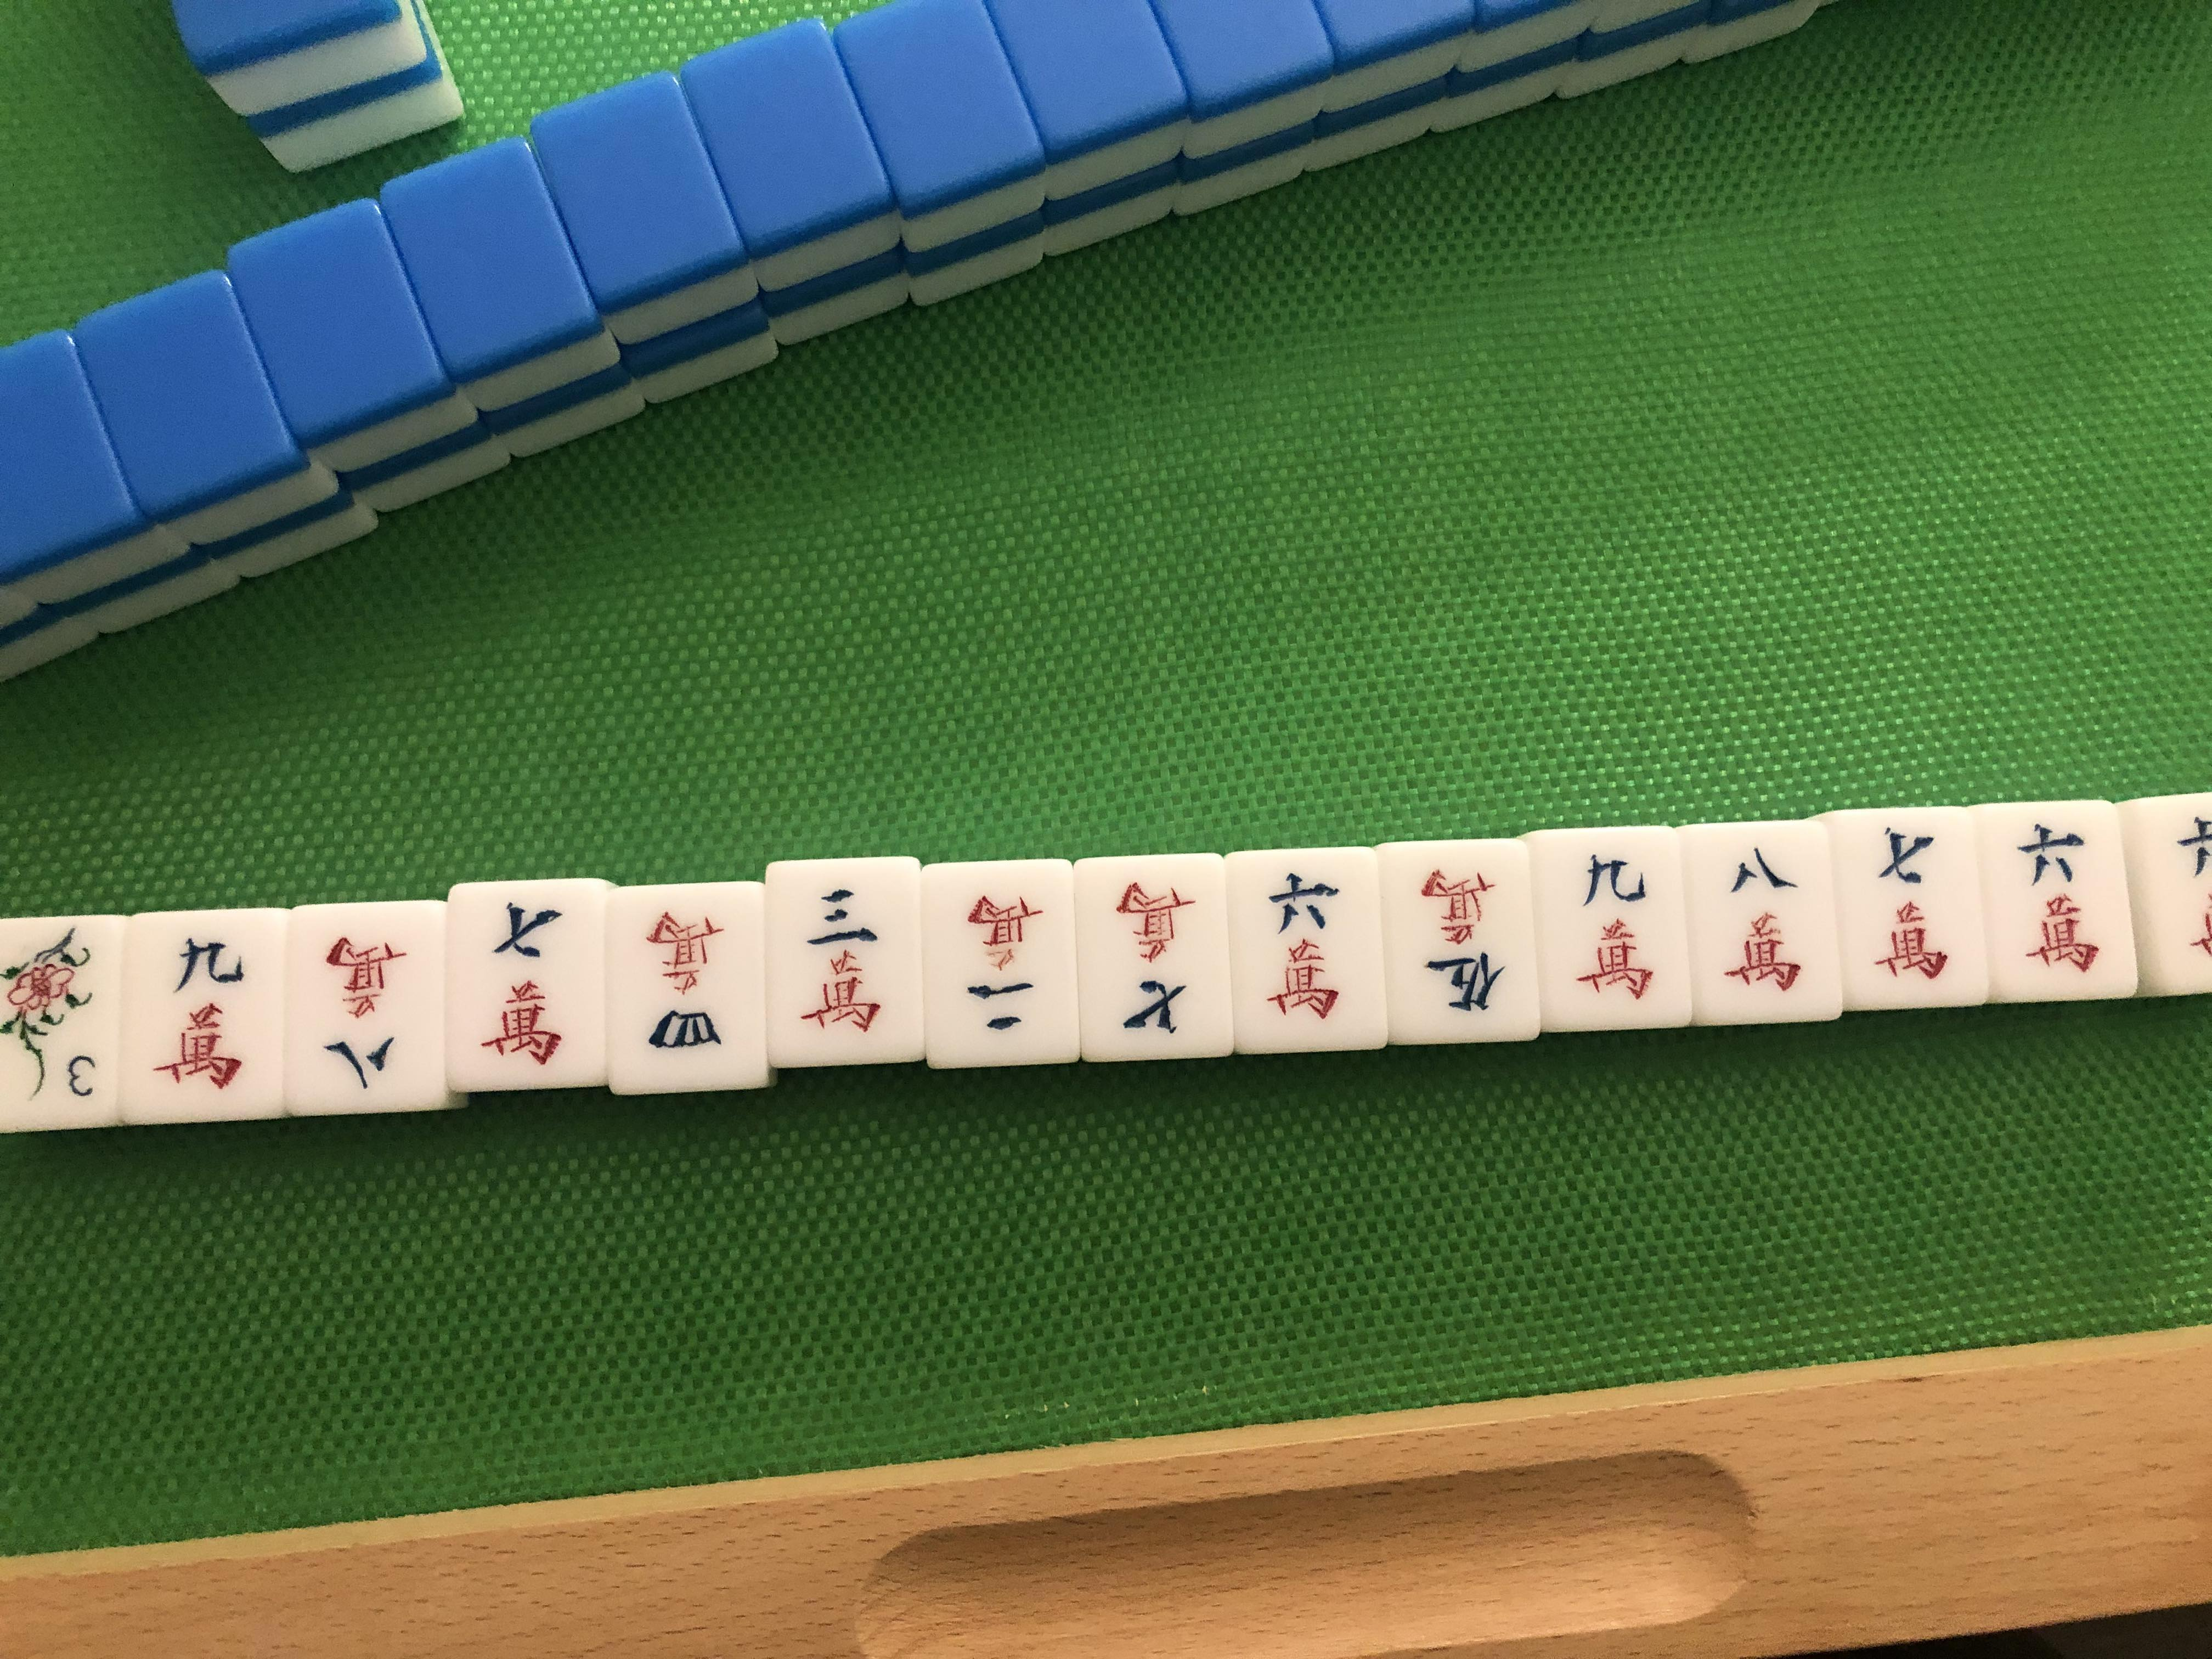character-eight: (298, 925, 430, 1101), (1698, 836, 1827, 1009)
character-five: (1399, 850, 1519, 1023)
character-four: (620, 899, 751, 1080)
character-nine: (138, 924, 256, 1105), (1552, 847, 1665, 1014)
character-seven: (463, 890, 585, 1084), (1087, 870, 1207, 1042), (1853, 823, 1958, 985)
character-six: (1235, 861, 1367, 1046), (1998, 812, 2114, 979)
character-three: (775, 870, 909, 1047)
character-two: (935, 880, 1057, 1051)
